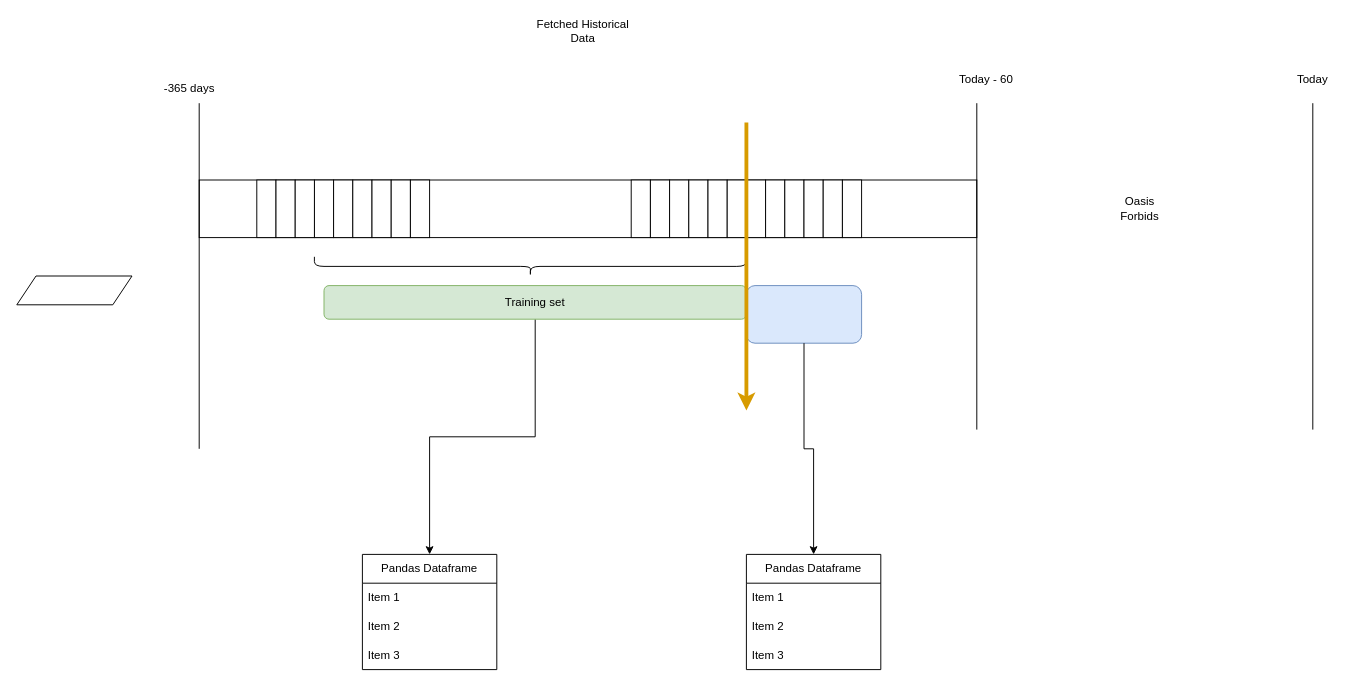
Some shapes in this 1358 by 686 pixel diagram are drawn without their labels. The centre of each missing label's shape, as x and y in pixels:
config file: the point at 74,290
Validation Set: the point at 803,314
